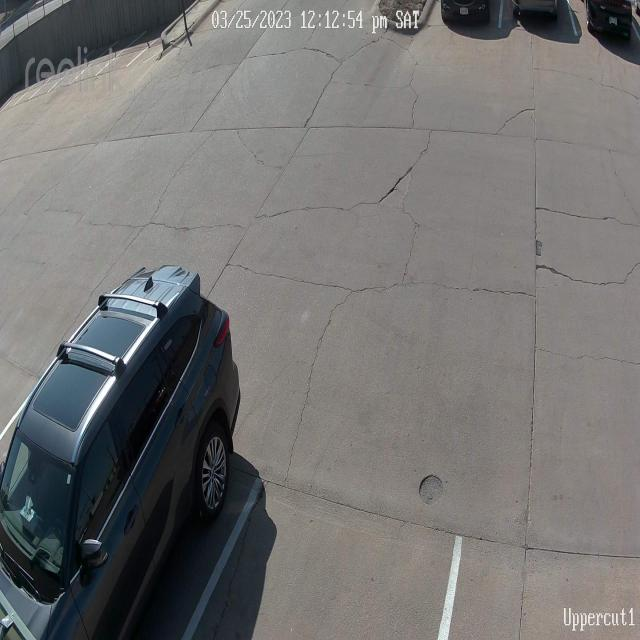Empty-slot: (185, 433, 476, 640), (440, 418, 640, 640), (0, 293, 81, 432)
Slot-Occupied: (0, 266, 236, 607), (442, 0, 509, 40), (586, 0, 636, 48), (518, 0, 572, 40)
